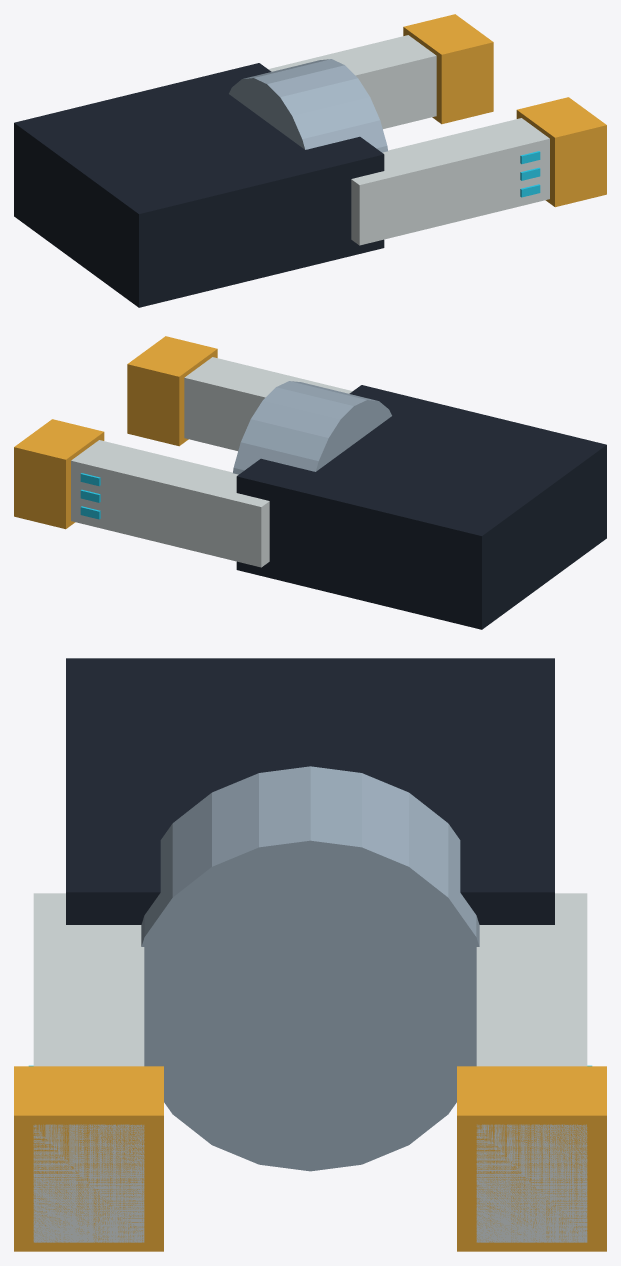
Rendered from 38_L86_AdaptiveRadiatorHandlingGripper.fbx.
The picture shows the model from 3 angles, top to bottom: view 1: azimuth 30°, elevation 25°; view 2: azimuth 150°, elevation 25°; view 3: azimuth 270°, elevation 25°; orthographic projection. The views are drawn at different scales.
Parts seen in each view (by area): view 1: L86_AdaptiveRadiatorHandlingGripper, L86_AdaptiveRadiatorHandlingGripper_Part_0005, L86_AdaptiveRadiatorHandlingGripper_Part_0002, L86_AdaptiveRadiatorHandlingGripper_Part_0003, L86_AdaptiveRadiatorHandlingGripper_Part_0006, L86_AdaptiveRadiatorHandlingGripper_Part_0007; view 2: L86_AdaptiveRadiatorHandlingGripper, L86_AdaptiveRadiatorHandlingGripper_Part_0002, L86_AdaptiveRadiatorHandlingGripper_Part_0005, L86_AdaptiveRadiatorHandlingGripper_Part_0006, L86_AdaptiveRadiatorHandlingGripper_Part_0003, L86_AdaptiveRadiatorHandlingGripper_Part_0004; view 3: L86_AdaptiveRadiatorHandlingGripper, L86_AdaptiveRadiatorHandlingGripper_Part_0005, L86_AdaptiveRadiatorHandlingGripper_Part_0002, L86_AdaptiveRadiatorHandlingGripper_Part_0006, L86_AdaptiveRadiatorHandlingGripper_Part_0003.
Part boxes in pixels (left/top/right/bottom): L86_AdaptiveRadiatorHandlingGripper: left=14, top=59, right=387, bottom=307; L86_AdaptiveRadiatorHandlingGripper_Part_0005: left=351, top=118, right=549, bottom=245; L86_AdaptiveRadiatorHandlingGripper_Part_0002: left=268, top=35, right=436, bottom=128; L86_AdaptiveRadiatorHandlingGripper_Part_0003: left=403, top=14, right=493, bottom=124; L86_AdaptiveRadiatorHandlingGripper_Part_0006: left=516, top=97, right=606, bottom=207; L86_AdaptiveRadiatorHandlingGripper_Part_0007: left=520, top=151, right=540, bottom=197; L86_AdaptiveRadiatorHandlingGripper: left=233, top=381, right=606, bottom=629; L86_AdaptiveRadiatorHandlingGripper_Part_0002: left=71, top=440, right=269, bottom=567; L86_AdaptiveRadiatorHandlingGripper_Part_0005: left=184, top=357, right=352, bottom=450; L86_AdaptiveRadiatorHandlingGripper_Part_0006: left=127, top=336, right=217, bottom=446; L86_AdaptiveRadiatorHandlingGripper_Part_0003: left=14, top=419, right=104, bottom=529; L86_AdaptiveRadiatorHandlingGripper_Part_0004: left=80, top=473, right=100, bottom=519; L86_AdaptiveRadiatorHandlingGripper: left=66, top=658, right=554, bottom=1171; L86_AdaptiveRadiatorHandlingGripper_Part_0005: left=33, top=893, right=144, bottom=1242; L86_AdaptiveRadiatorHandlingGripper_Part_0002: left=476, top=893, right=587, bottom=1242; L86_AdaptiveRadiatorHandlingGripper_Part_0006: left=14, top=1066, right=163, bottom=1251; L86_AdaptiveRadiatorHandlingGripper_Part_0003: left=457, top=1066, right=606, bottom=1251.
Bounding box in the file's own units: 158 × 56 × 91.
